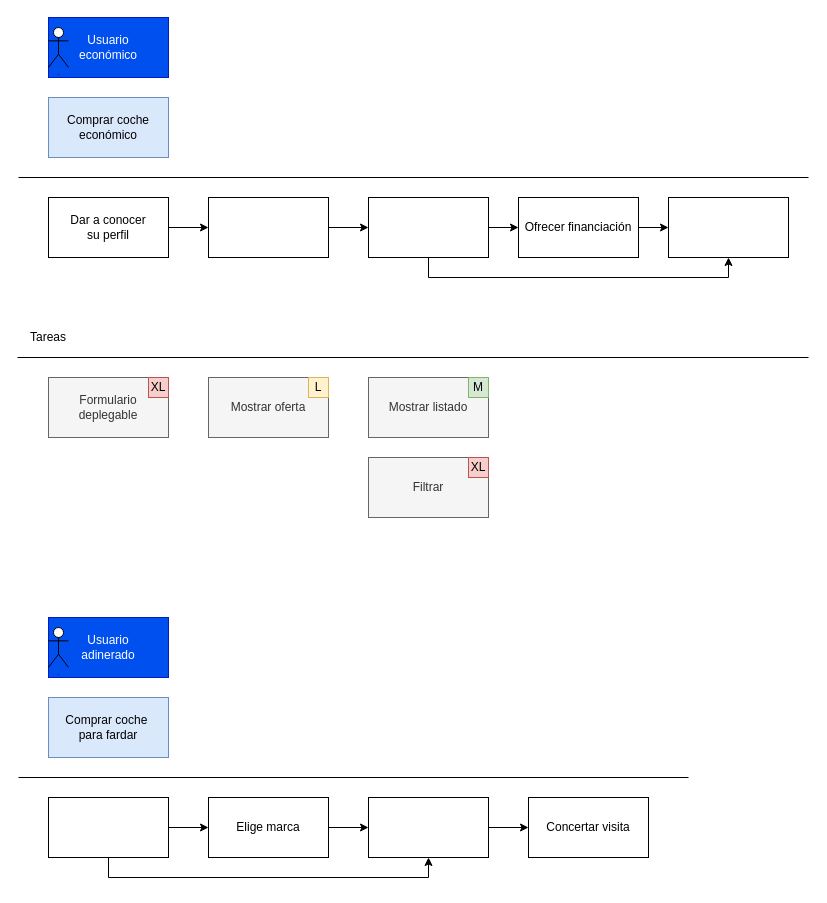
This 827x903 diagram has some shape labels left out. The centre of each missing label's shape, as x and y in pixels:
"Comprar" goes at point (728, 227).
"Comprar más" goes at point (428, 227).
"Elige uno" goes at point (428, 827).
"Mostrar los mejores coches o marcas" goes at point (108, 827).
"Ver una oferta" goes at point (268, 227).
